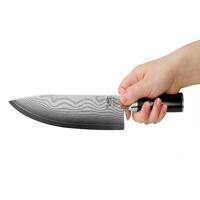knife: (3, 88, 198, 136)
